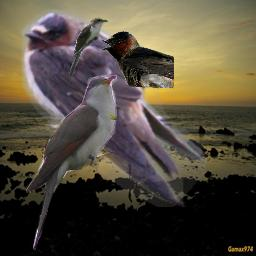Cuckoo: (25, 75, 117, 252), (67, 17, 108, 79)
Swallow: (19, 9, 207, 207), (100, 31, 174, 89)
